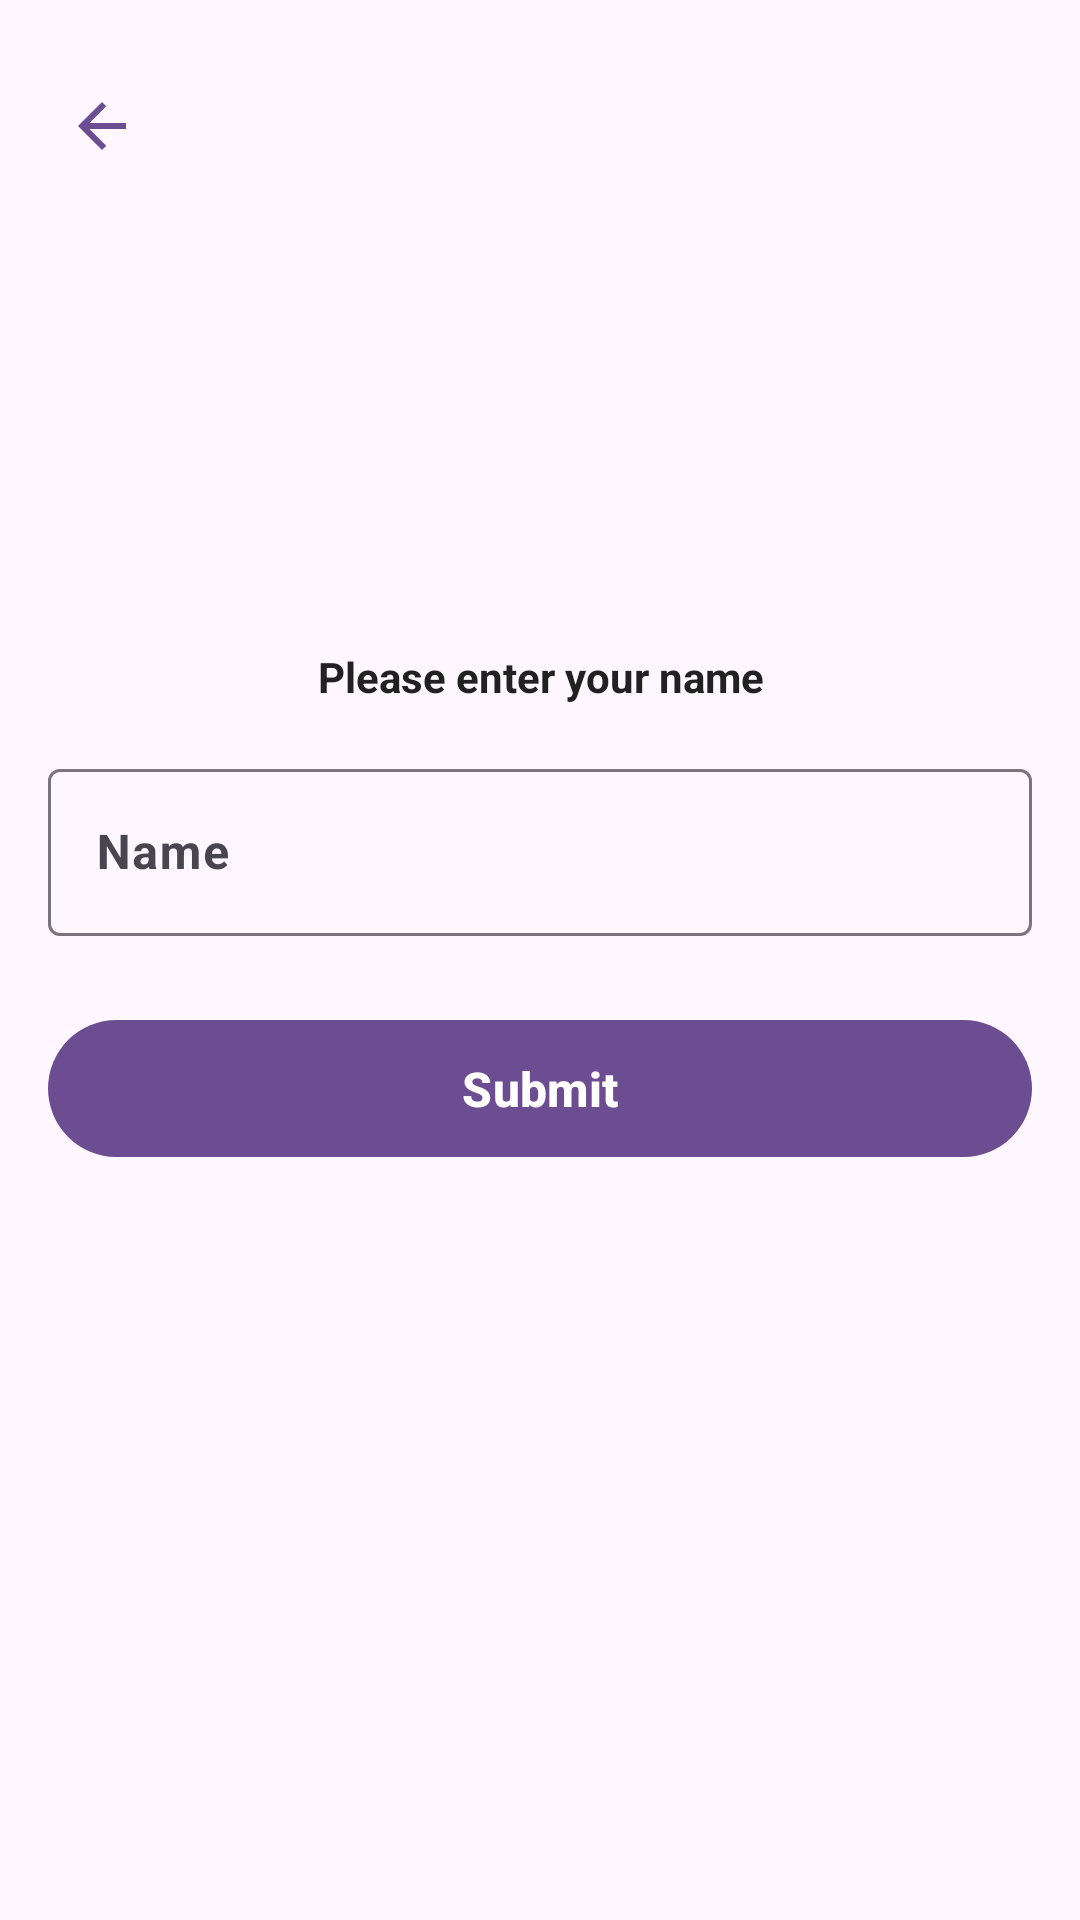

Screen size 1080px×1920px. Icon name, then its box in pixels as (x1, y1, x2, y2):
arrow back: (78, 102, 126, 150)
